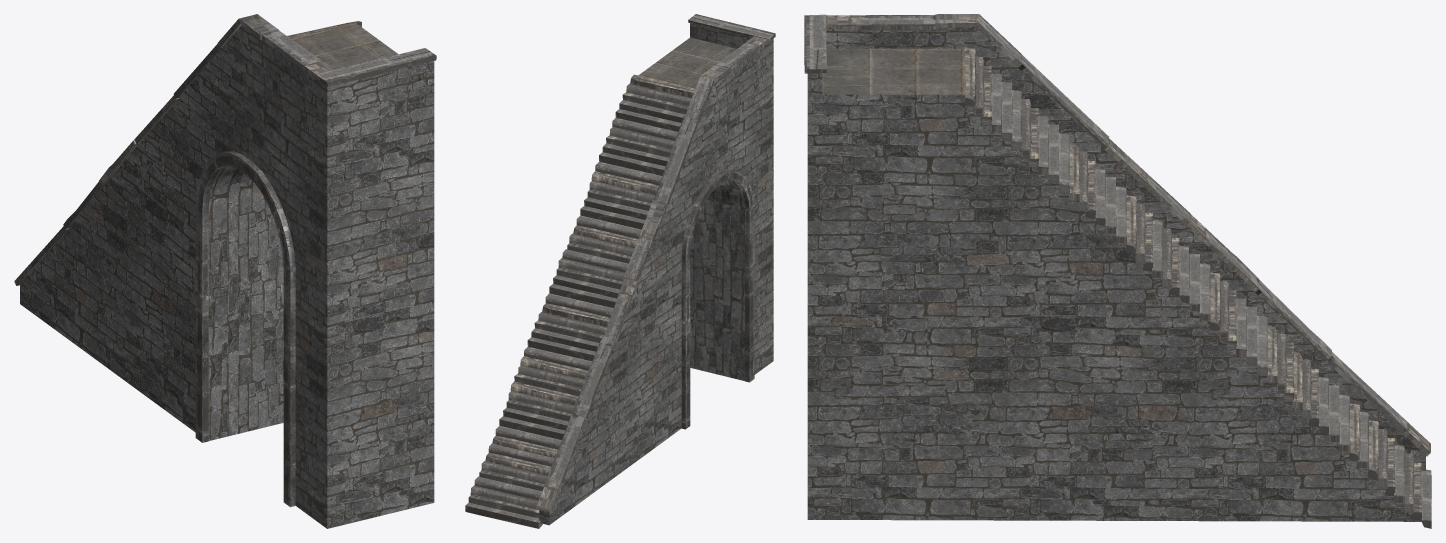
File: MC_Castle_Stairs_B_01.fbx
3 renders of one model, left to right at view 1: azimuth 30°, elevation 25°; view 2: azimuth 150°, elevation 25°; view 3: azimuth 270°, elevation 25°, orthographic. The views are drawn at different scales.
Visible parts, largest first — view 1: MC_Castle_Stairs_B_01_LOD0; view 2: MC_Castle_Stairs_B_01_LOD0; view 3: MC_Castle_Stairs_B_01_LOD0.
Boxes of the visible parts, x1,y1,x2,y2 form: MC_Castle_Stairs_B_01_LOD0: (14, 14, 436, 528); MC_Castle_Stairs_B_01_LOD0: (465, 14, 775, 528); MC_Castle_Stairs_B_01_LOD0: (804, 14, 1431, 528).
Size of what is drawn, in the model's own units: 298 by 1074 by 1331.
